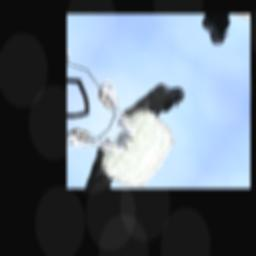Crow: (120, 68, 188, 141)
